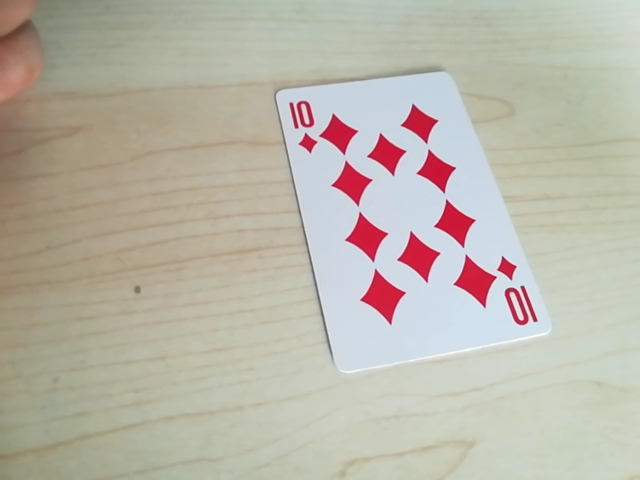fk 10: (497, 261, 538, 335), (282, 93, 324, 154)
